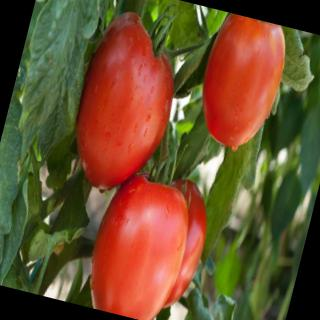Tomat: (59, 4, 194, 204), (79, 162, 202, 320)
